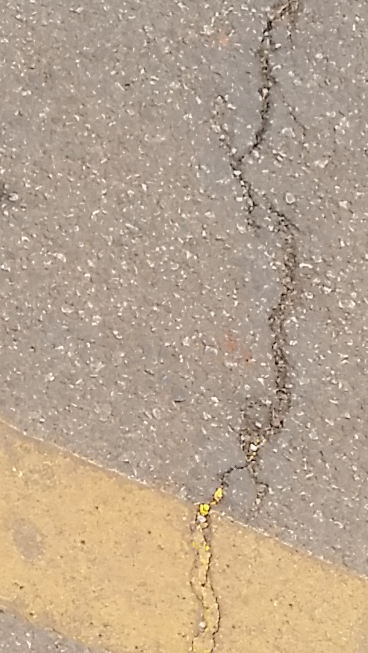A: (172, 1, 314, 648)
